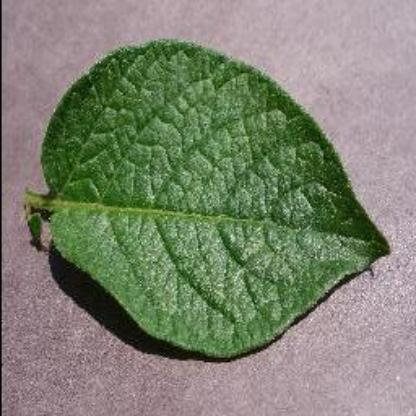Healthy-plant: (8, 8, 406, 416)
